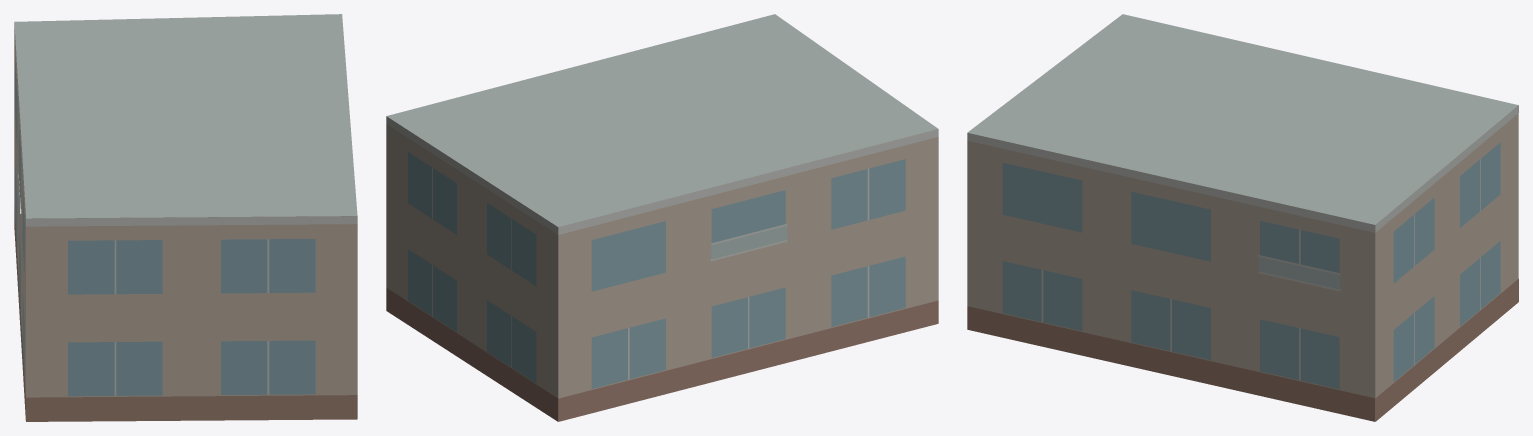
Rendered from survey-upis-33017355.glb.
3 views of the same model, side by side, from view 1: azimuth 30°, elevation 25°; view 2: azimuth 150°, elevation 25°; view 3: azimuth 270°, elevation 25° (orthographic). The views are drawn at different scales.
Visible parts, largest first — view 1: survey-upis-33017355.tmp; view 2: survey-upis-33017355.tmp; view 3: survey-upis-33017355.tmp.
Boxes of the visible parts, <box> form: survey-upis-33017355.tmp: <box>14,14,357,421</box>; survey-upis-33017355.tmp: <box>386,14,938,421</box>; survey-upis-33017355.tmp: <box>967,14,1518,421</box>.
Size of the model in its own units: 14.03 by 6.1 by 15.49.
